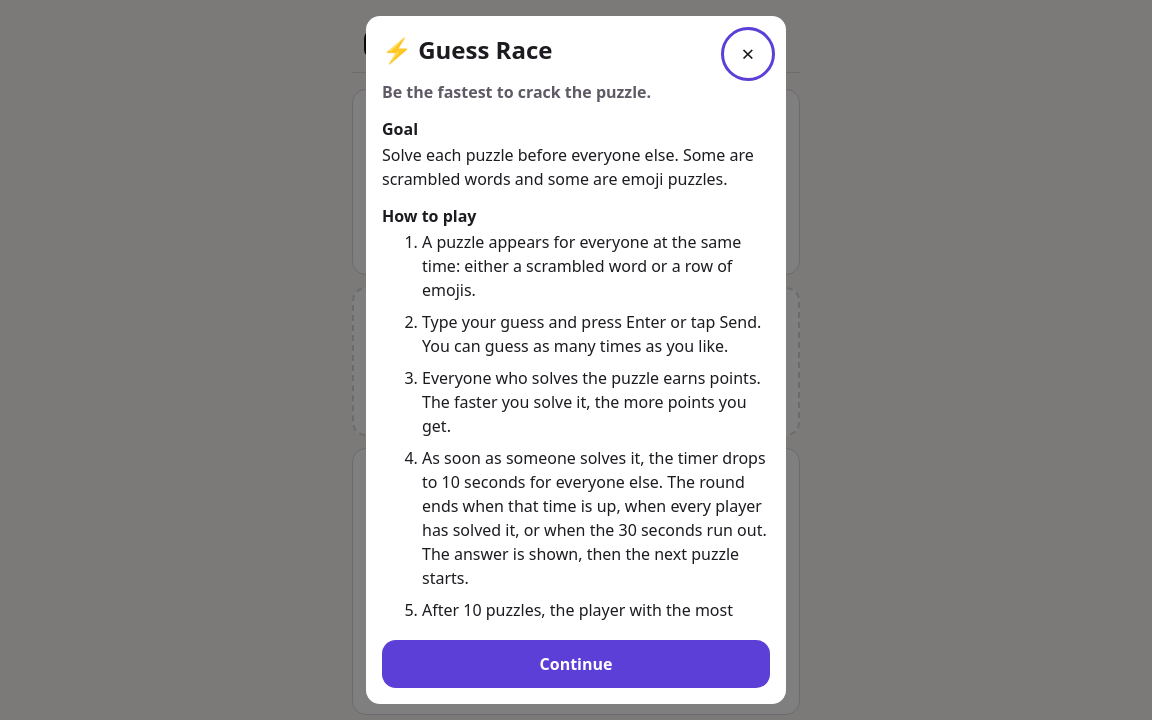
How to play modal › opens once when joining a lobby with Guess Race already selected
Check: the text "Tap to copy" is shown, box x1=538 y1=396 x2=614 y2=418
Check: the dialog is shown, box x1=366 y1=16 x2=786 y2=704
Step 1. Click the button "Continue" → click(576, 664), box x1=382 y1=640 x2=770 y2=688
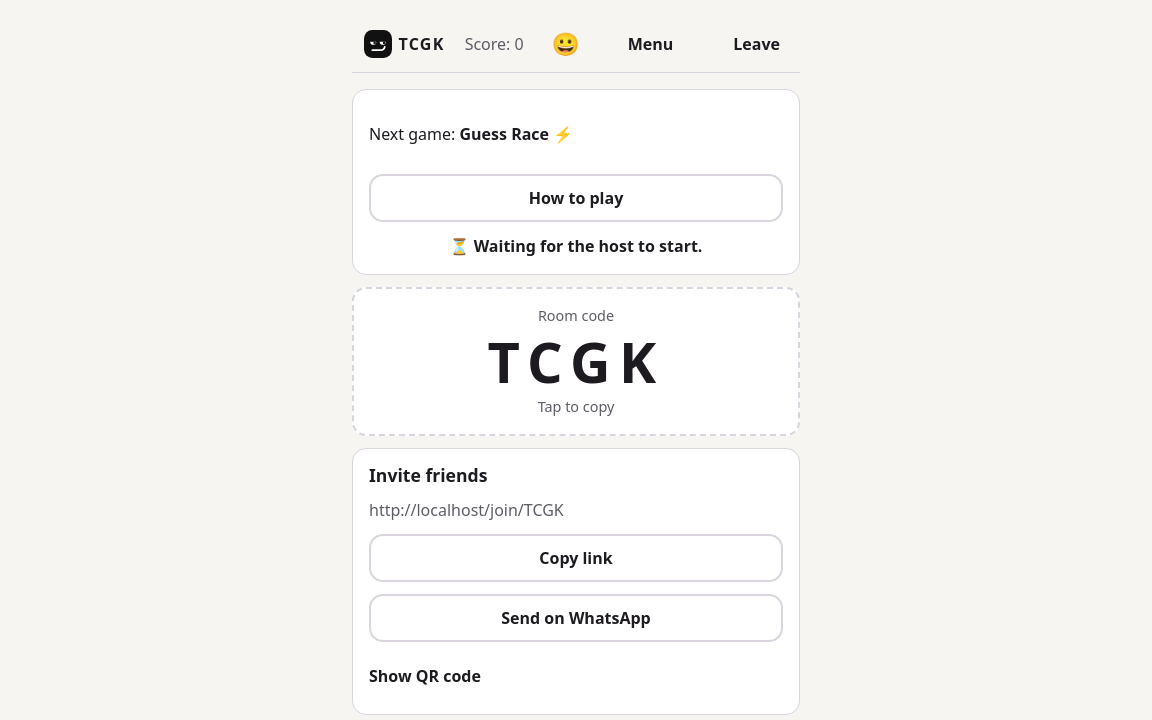
Check: the dialog is gone
